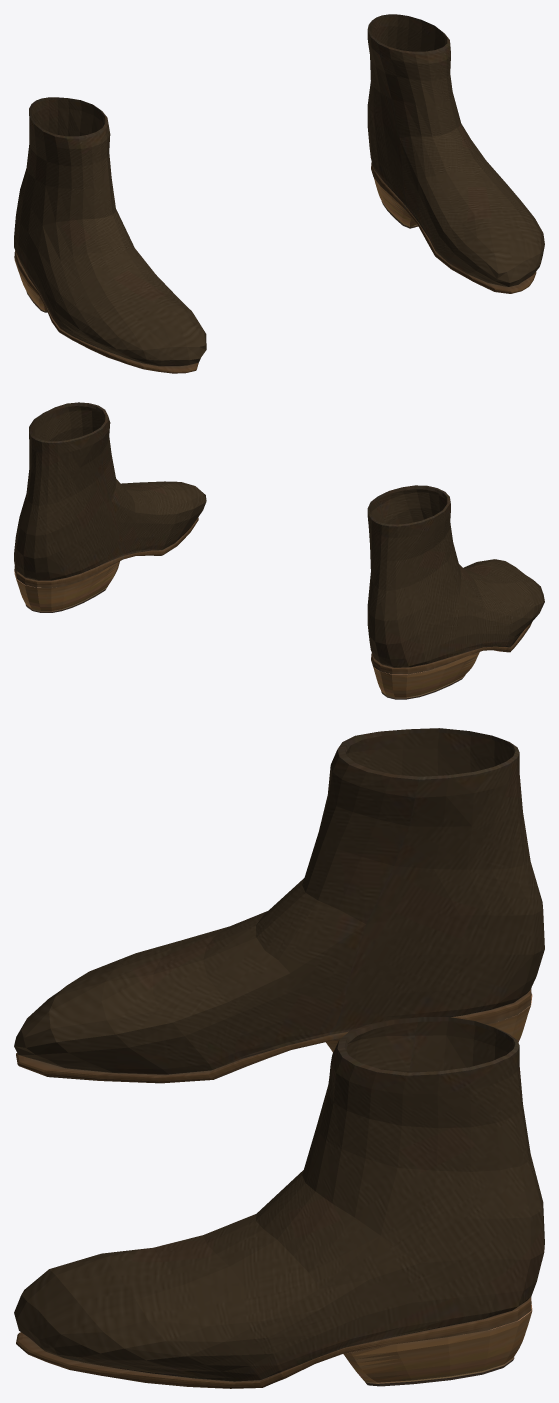
Rendered from mhw_toigo_ankle_boots_male.glb.
The picture shows the model from 3 angles, top to bottom: view 1: azimuth 30°, elevation 25°; view 2: azimuth 150°, elevation 25°; view 3: azimuth 270°, elevation 25°; orthographic projection. The views are drawn at different scales.
Parts seen in each view (by area): view 1: mhw_toigo_ankle_boots_male; view 2: mhw_toigo_ankle_boots_male; view 3: mhw_toigo_ankle_boots_male.
Boxes of the visible parts, x1,y1,x2,y2 form: mhw_toigo_ankle_boots_male: [14, 14, 544, 373]; mhw_toigo_ankle_boots_male: [14, 402, 544, 699]; mhw_toigo_ankle_boots_male: [14, 728, 544, 1388].
Bounding box in the file's own units: 0.5543 × 0.2048 × 0.3172.
Materials: 1 (1 with a texture image).
